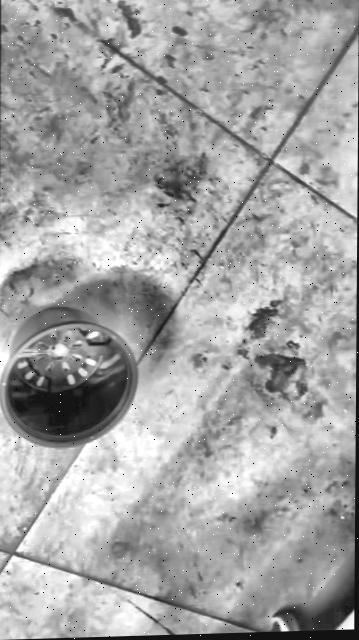pot: (0, 304, 138, 448)
